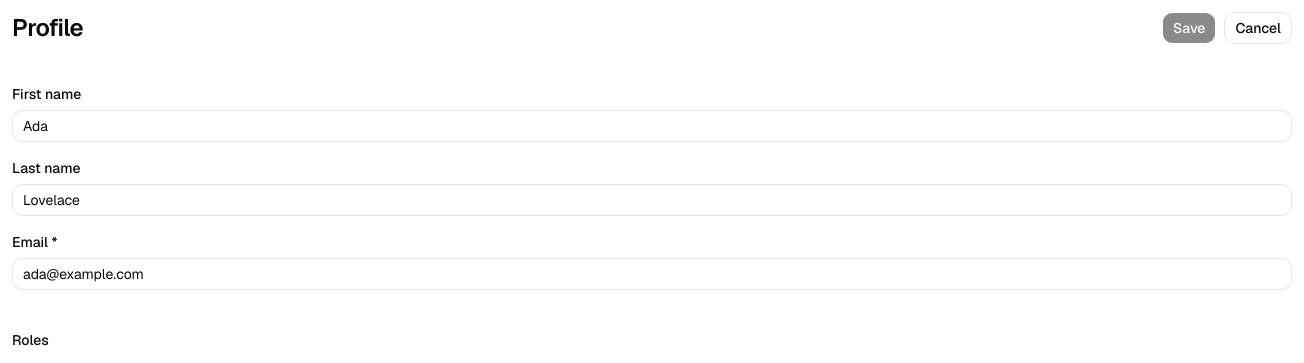
Test: UserForm › resets a dirty draft when Cancel is clicked
The image size is (1304, 363).
Replace the text in the field with test id "profile-first-name" with "Changed" at (652, 126), box [12,110,1292,142]
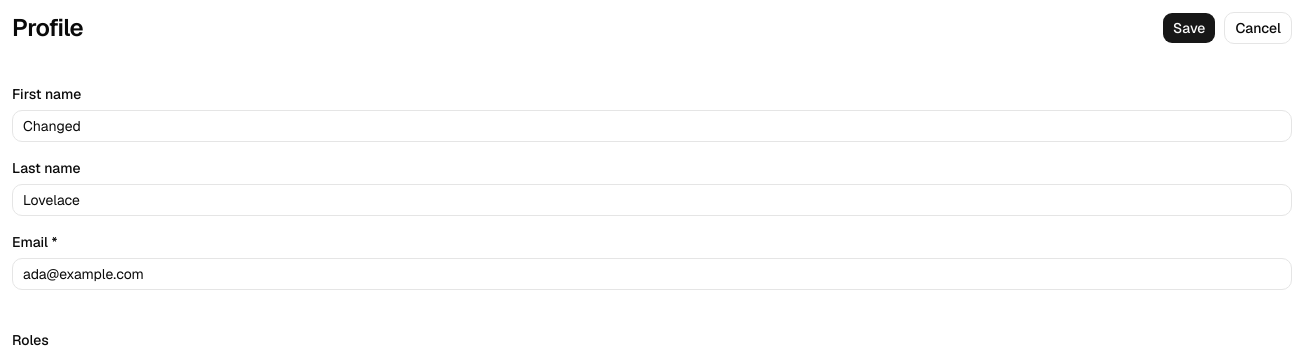
Now the button with test id "profile-submit" is enabled, box [1162,12,1216,44]
Click the link with test id "profile-cancel" at (1258, 28), box [1224,12,1292,44]
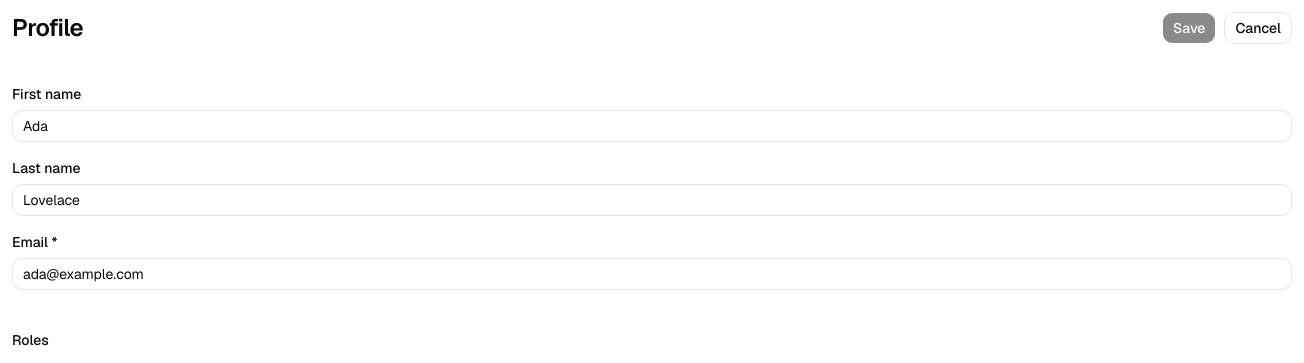
Now the field with test id "profile-first-name" holds "Ada", box [12,110,1292,142]
Now the button with test id "profile-submit" is disabled, box [1162,12,1216,44]
